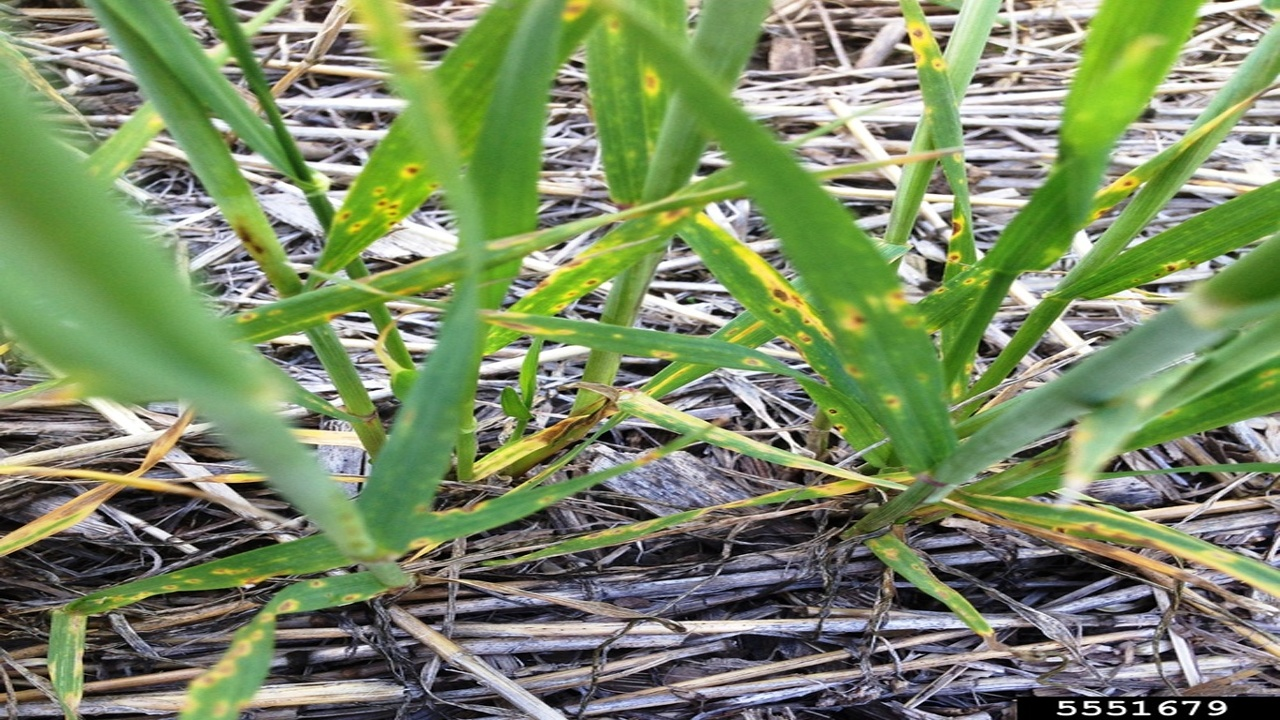tan_spot: (319, 1, 594, 291), (502, 471, 922, 569), (132, 50, 295, 291), (812, 232, 953, 473), (963, 493, 1280, 596), (684, 215, 857, 390), (187, 571, 371, 720), (1077, 86, 1280, 218), (898, 3, 981, 278), (42, 530, 327, 609), (1064, 198, 1280, 299), (42, 611, 100, 717)
